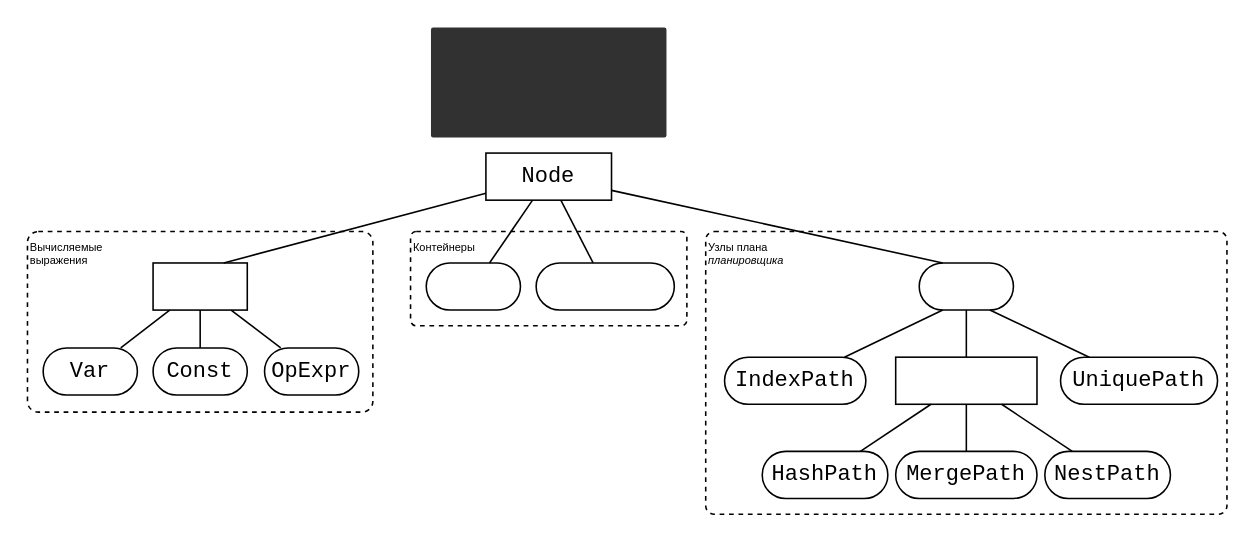
This 1254x542 diagram has some shape labels left out. Here are the shapes that lost their labels. From the top down, the centre of each, then its label:
At pixel 548 82: "struct Node { NodeTag type ; }".
At pixel 199 285: "Expr".
At pixel 472 285: "List".
At pixel 604 285: "Bitmapset".
At pixel 965 285: "Path".
At pixel 965 380: "JoinPath".
